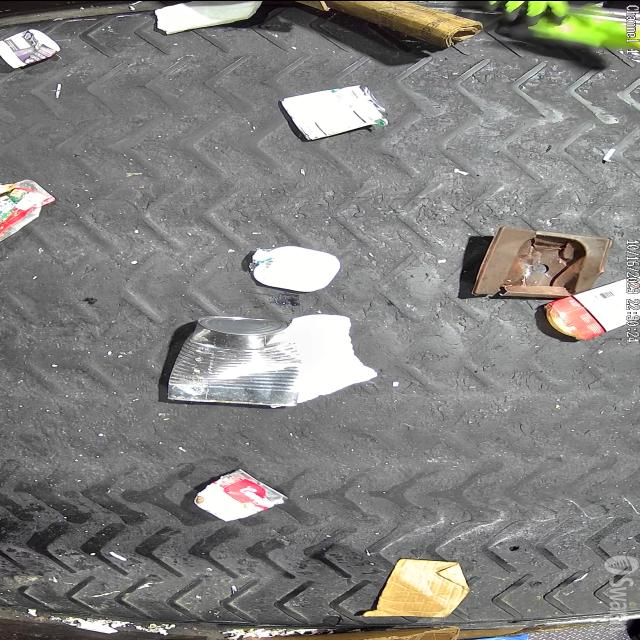can: (168, 315, 302, 405), (278, 83, 391, 141), (193, 468, 289, 522)
